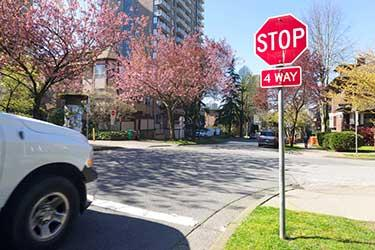Pole: (278, 89, 286, 240), (356, 126, 358, 154)
Sign: (256, 13, 307, 63)
